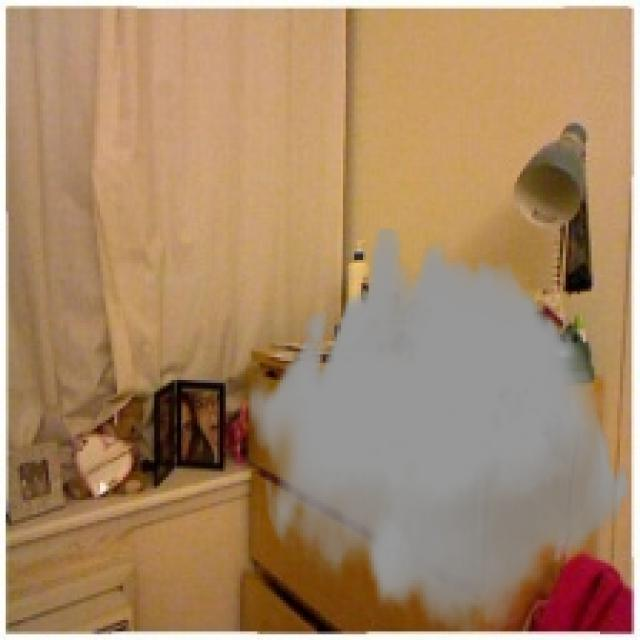Smoke: (246, 228, 632, 632)
